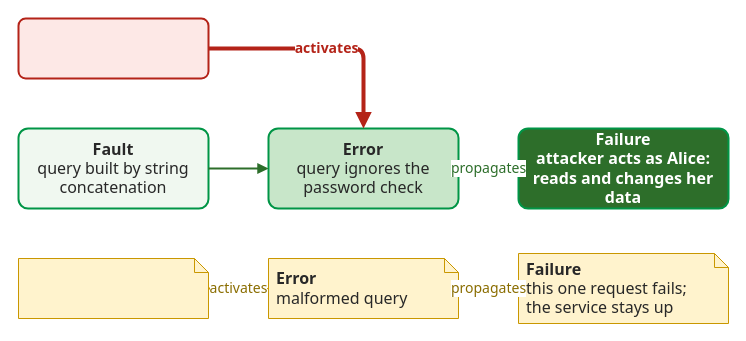
The diagram is 746 pixels wide and 341 high, and some of its shapes have lost their labels. Here are the shapes that lost their labels. From the top down, the centre of each, then its label:
the point at 113,48: Attack name = alice' --
the point at 113,288: Ordinary input name = O'Brien
